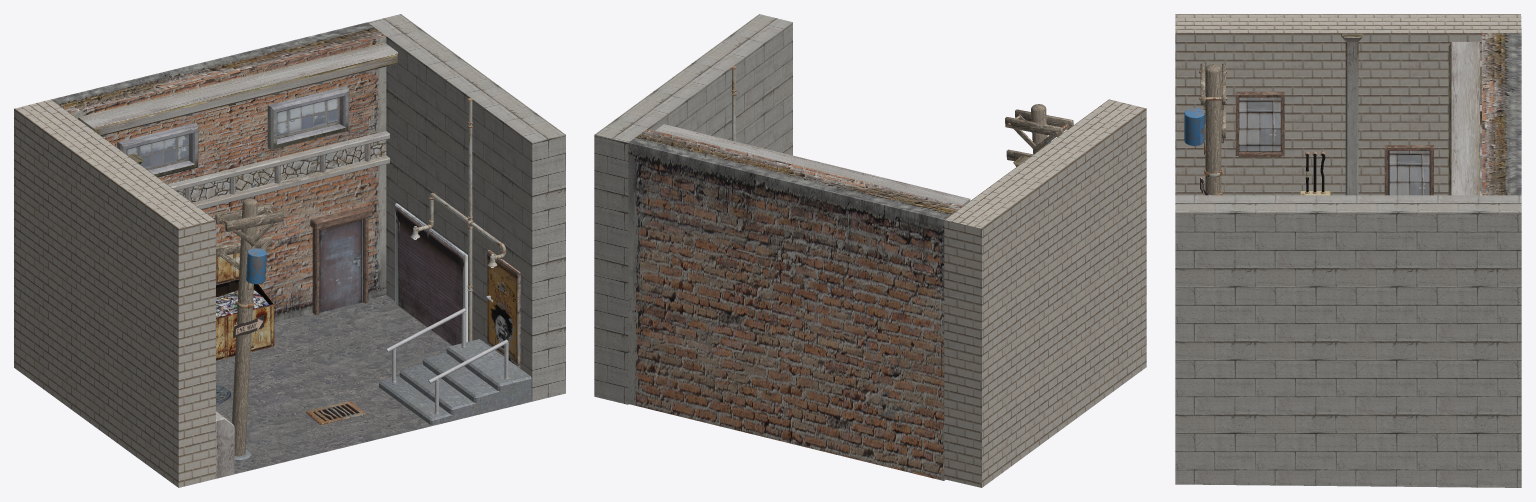
The model's file is new-york_backstreet.glb.
3 renders of one model, left to right at view 1: azimuth 30°, elevation 25°; view 2: azimuth 150°, elevation 25°; view 3: azimuth 270°, elevation 25°, orthographic. The views are drawn at different scales.
Parts seen in each view (by area): view 1: Plane_Yellow facade brick_0, Plane.002_Material.002_0, Plane.003_Red Brick_0, Floor_Asphalt_0, Cube.009_Concrete facade_0, Cube.007_Concret stairs_0, Cube.025_Material.001_0, Cube.012_Concrete facade_0, Cube.013_Windows frames cocrete_0, Wood door_Material_0, Cylinder_Wood ecectric stand_0, Cube.016_Graffity door_0 (+12 smaller); view 2: Plane.003_Red Brick_0, Plane_Yellow facade brick_0, Plane.002_Material.002_0, Cube.009_Concrete facade_0, Cube.003_Wood ecectric stand_0; view 3: Plane.002_Material.002_0, Plane_Yellow facade brick_0, Plane.003_Red Brick_0, Cube.009_Concrete facade_0, Cube.030_Window vertical_0, Cube.029_Concrete facade_0, Cylinder_Wood ecectric stand_0, Cube.040_Window vertical_0, Cube.033_wood parts_0, Cylinder.001_Blue metal_0, Cube.041_wood parts_0, Cube.003_Wood ecectric stand_0 (+1 smaller).
Part boxes in pixels (<box>): Plane_Yellow facade brick_0: <box>14,99,215,487</box>; Plane.002_Material.002_0: <box>368,14,565,401</box>; Plane.003_Red Brick_0: <box>51,22,386,322</box>; Floor_Asphalt_0: <box>216,295,531,478</box>; Cube.009_Concrete facade_0: <box>78,42,397,135</box>; Cube.007_Concret stairs_0: <box>379,339,531,424</box>; Cube.025_Material.001_0: <box>395,203,467,345</box>; Cube.012_Concrete facade_0: <box>168,131,389,208</box>; Cube.013_Windows frames cocrete_0: <box>117,86,349,177</box>; Wood door_Material_0: <box>319,219,362,312</box>; Cylinder_Wood ecectric stand_0: <box>232,198,257,456</box>; Cube.016_Graffity door_0: <box>487,250,520,367</box>; Plane.003_Red Brick_0: <box>628,129,962,480</box>; Plane_Yellow facade brick_0: <box>944,99,1146,487</box>; Plane.002_Material.002_0: <box>594,14,792,404</box>; Cube.009_Concrete facade_0: <box>655,124,970,205</box>; Cube.003_Wood ecectric stand_0: <box>1005,109,1073,161</box>; Plane.002_Material.002_0: <box>1175,195,1521,487</box>; Plane_Yellow facade brick_0: <box>1175,14,1521,195</box>; Plane.003_Red Brick_0: <box>1481,33,1521,195</box>; Cube.009_Concrete facade_0: <box>1448,42,1479,195</box>; Cube.030_Window vertical_0: <box>1239,97,1281,151</box>; Cube.029_Concrete facade_0: <box>1341,33,1362,195</box>; Cylinder_Wood ecectric stand_0: <box>1205,64,1221,195</box>; Cube.040_Window vertical_0: <box>1388,151,1430,195</box>; Cube.033_wood parts_0: <box>1235,91,1284,156</box>; Cylinder.001_Blue metal_0: <box>1184,108,1204,145</box>; Cube.041_wood parts_0: <box>1384,145,1433,195</box>; Cube.003_Wood ecectric stand_0: <box>1200,63,1225,143</box>.
Size of the model in its own units: 14799 by 9751 by 10911.
33 materials, 25 textured.
